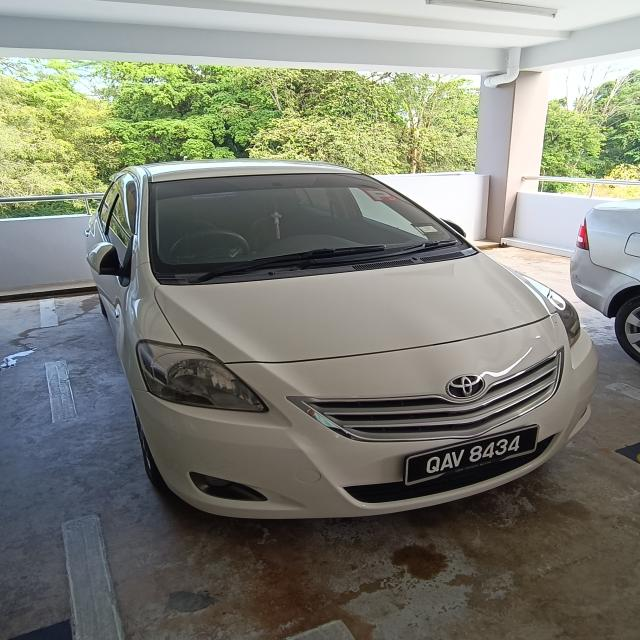ToyotaVios: (83, 157, 599, 520)
